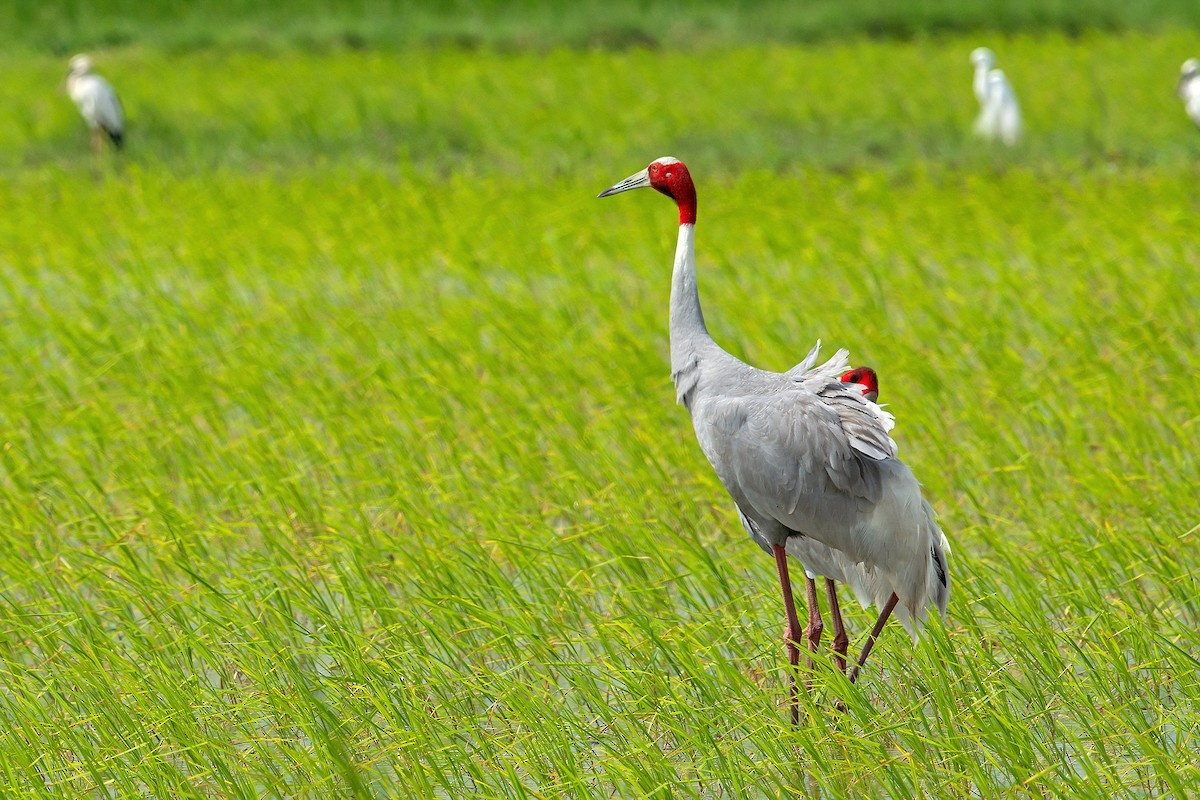crane: (598, 149, 973, 732)
